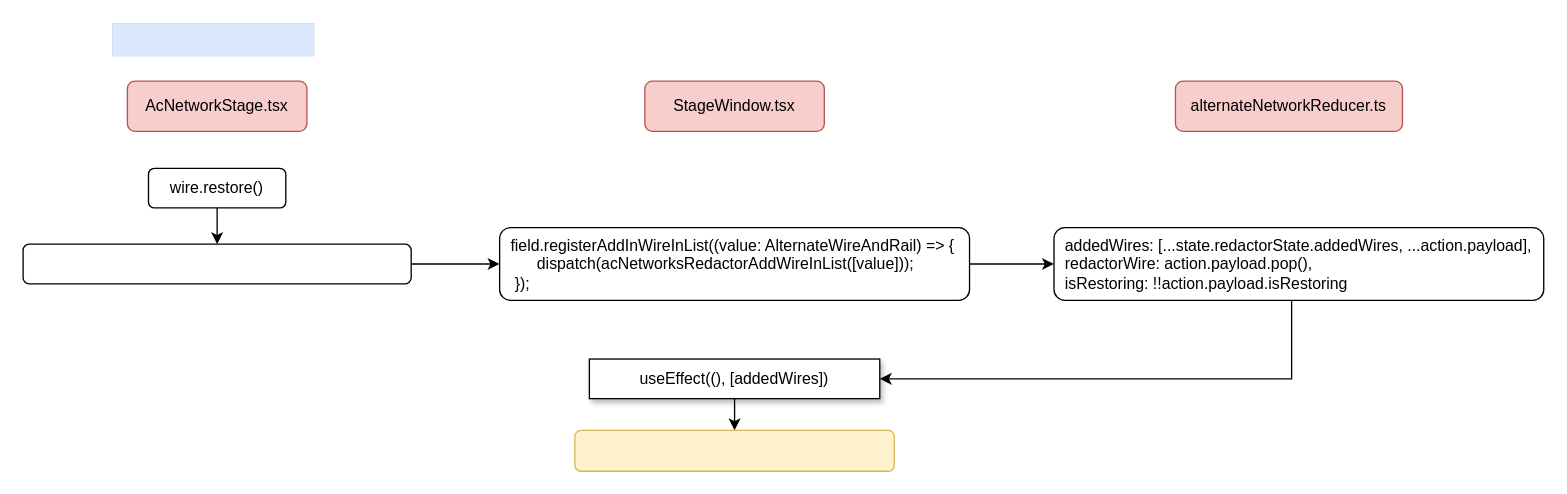
This 1567x494 diagram has some shape labels left out. Here are the shapes that lost their labels. From the top down, the centre of each, then its label:
At point (213, 38): "Восстановление провода".
At point (216, 263): "wire.routePoints.parent.addInWireInList(dataWire);".
At point (734, 450): "условие не должно отработать".
